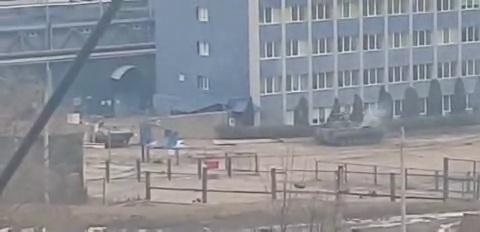tank: (312, 117, 388, 147), (96, 120, 134, 152)
